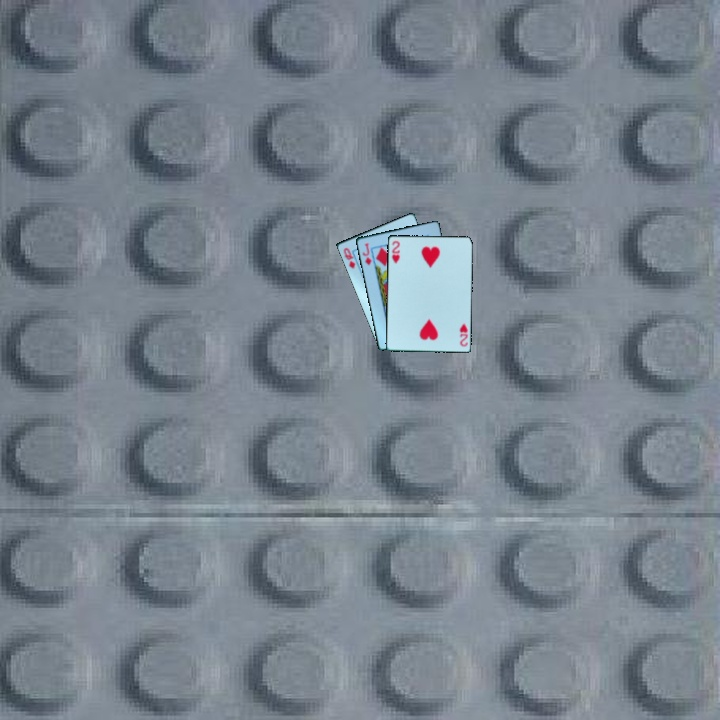2h: (388, 237, 402, 266), (456, 320, 470, 349)
Jd: (359, 240, 374, 268)
Qd: (340, 244, 358, 272)
